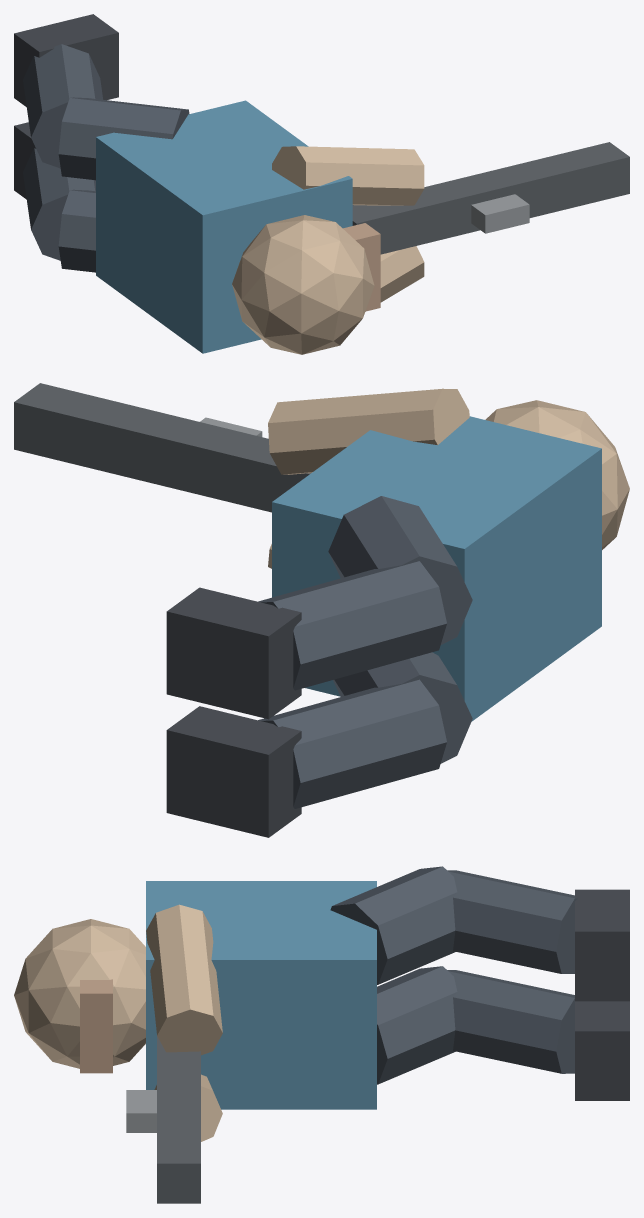
Rendered from player-crouch-aim.glb.
The picture shows the model from 3 angles, top to bottom: view 1: azimuth 30°, elevation 25°; view 2: azimuth 150°, elevation 25°; view 3: azimuth 270°, elevation 25°; orthographic projection. The views are drawn at different scales.
Parts seen in each view (by area): view 1: body_torso, look_head, look_weapon, look_right_arm, body_right_thigh, body_right_shin, body_right_boot, body_left_shin, body_left_thigh, look_left_arm, look_weapon_sight, look_face (+1 smaller); view 2: body_torso, look_weapon, body_right_shin, body_left_shin, body_left_boot, body_right_boot, look_right_arm, body_right_thigh, look_head, body_left_thigh; view 3: body_torso, look_head, body_right_shin, body_left_shin, look_right_arm, body_right_thigh, body_left_thigh, look_weapon, body_right_boot, body_left_boot, look_face, look_weapon_sight (+1 smaller).
Boxes of the visible parts, left/top/right/bottom form: body_torso: left=96, top=100, right=352, bottom=353; look_head: left=232, top=215, right=374, bottom=354; look_weapon: left=352, top=142, right=629, bottom=254; look_right_arm: left=272, top=146, right=424, bottom=205; body_right_thigh: left=58, top=97, right=189, bottom=180; body_right_shin: left=23, top=44, right=102, bottom=168; body_right_boot: left=14, top=14, right=118, bottom=106; body_left_shin: left=23, top=148, right=95, bottom=260; body_left_thigh: left=58, top=189, right=95, bottom=272; look_left_arm: left=380, top=246, right=424, bottom=302; look_weapon_sight: left=471, top=194, right=529, bottom=233; look_face: left=343, top=223, right=380, bottom=311; body_torso: left=272, top=416, right=601, bottom=721; look_weapon: left=14, top=383, right=310, bottom=512; body_right_shin: left=258, top=561, right=446, bottom=690; body_left_shin: left=258, top=679, right=446, bottom=808; body_left_boot: left=166, top=706, right=301, bottom=837; body_right_boot: left=166, top=587, right=301, bottom=719; look_right_arm: left=268, top=388, right=469, bottom=474; body_right_thigh: left=328, top=496, right=472, bottom=644; look_head: left=485, top=400, right=629, bottom=549; body_left_thigh: left=333, top=652, right=472, bottom=763; body_torso: left=146, top=881, right=376, bottom=1109; look_head: left=14, top=919, right=145, bottom=1068; body_right_shin: left=447, top=870, right=577, bottom=973; body_left_shin: left=447, top=970, right=574, bottom=1073; look_right_arm: left=146, top=904, right=222, bottom=1055; body_right_thigh: left=330, top=866, right=457, bottom=984; body_left_thigh: left=377, top=966, right=457, bottom=1084; look_weapon: left=157, top=1036, right=200, bottom=1203; body_right_boot: left=575, top=889, right=629, bottom=1001; body_left_boot: left=575, top=1001, right=629, bottom=1100; look_face: left=80, top=979, right=112, bottom=1073; look_weapon_sight: left=126, top=1090, right=156, bottom=1132.
Bounding box in the file's own units: 51.9 × 21.77 × 56.
